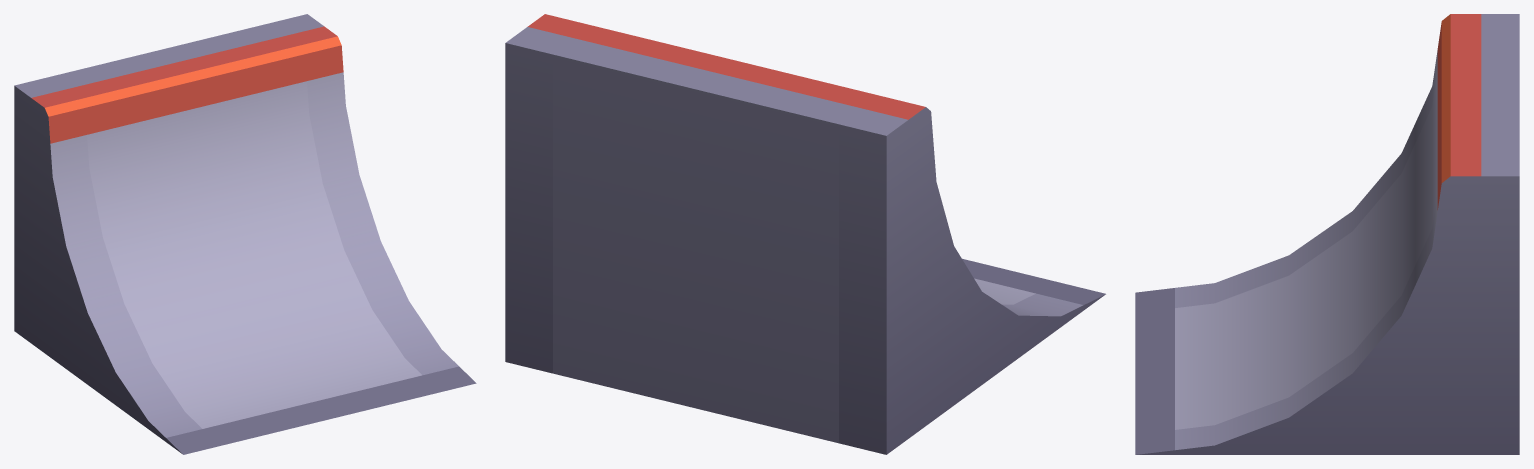
File: bowl-side.glb
3 renders of one model, left to right at view 1: azimuth 30°, elevation 25°; view 2: azimuth 150°, elevation 25°; view 3: azimuth 270°, elevation 25°, orthographic. The views are drawn at different scales.
Parts seen in each view (by area): view 1: bowl-side; view 2: bowl-side; view 3: bowl-side.
Part boxes in pixels (x1,y1,x2,y2): bowl-side: [14, 14, 476, 454]; bowl-side: [505, 14, 1105, 454]; bowl-side: [1135, 14, 1519, 454].
Bounding box in the file's own units: 1 × 0.8 × 1.
1 material, 1 textured.
